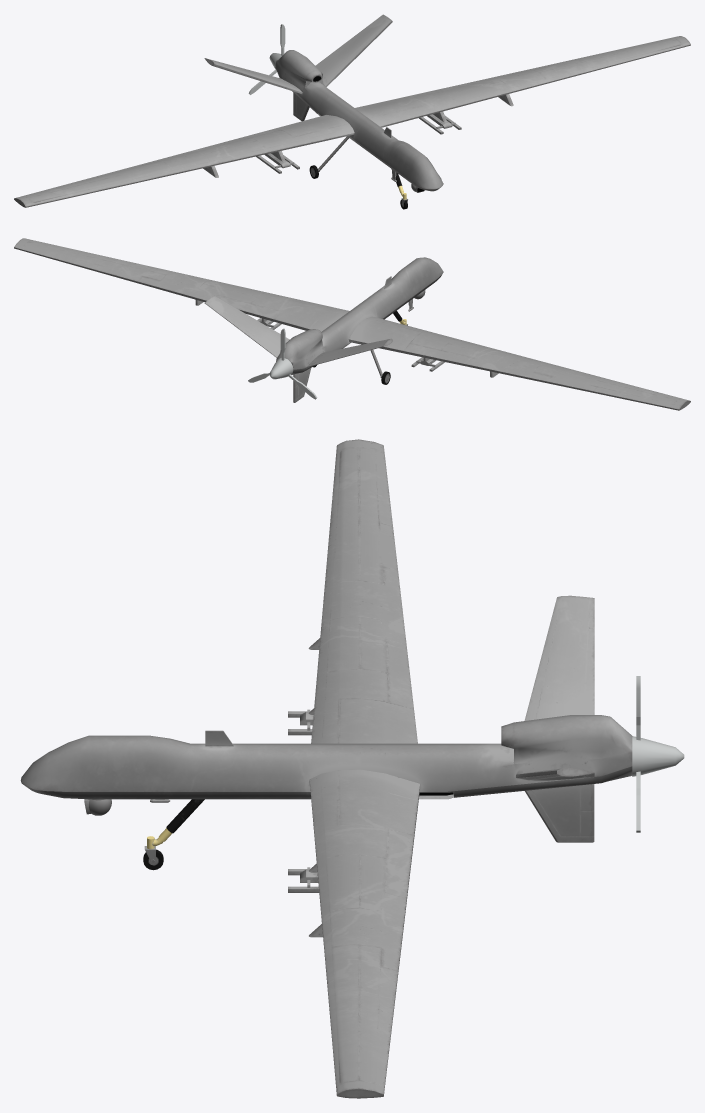
File: MQ9-clean.glb
3 views of the same model, one above another, from view 1: azimuth 30°, elevation 25°; view 2: azimuth 150°, elevation 25°; view 3: azimuth 270°, elevation 25° (orthographic). The views are drawn at different scales.
Visible parts, largest first — view 1: MQ9, MQ9_MissilePodR2, MQ9_MissilePodL2; view 2: MQ9; view 3: MQ9.
Boxes of the visible parts, x1,y1,x2,y2 form: MQ9: [14, 14, 690, 209]; MQ9_MissilePodR2: [256, 153, 299, 173]; MQ9_MissilePodL2: [419, 114, 461, 134]; MQ9: [14, 238, 690, 410]; MQ9: [20, 439, 684, 1098].
Size of the model in its own units: 19.86 by 2.73 by 8.58.
1 material, 1 textured.
